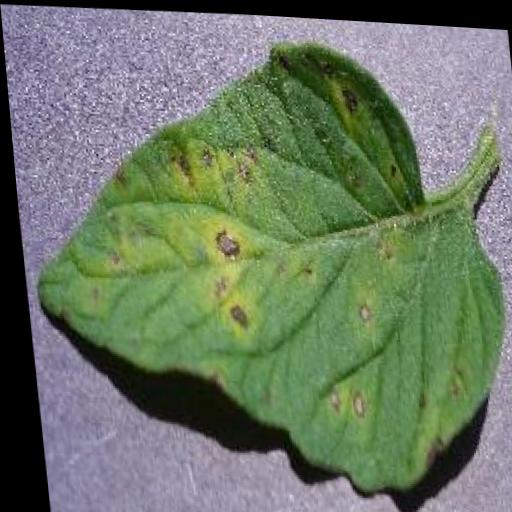Septoria: (7, 26, 512, 504)
